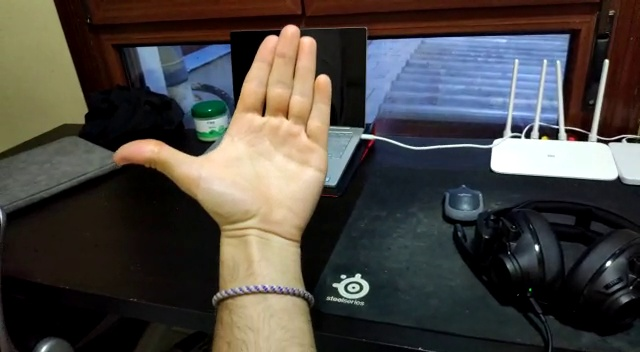Palm: (112, 25, 334, 247)
